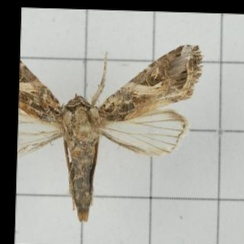Spodoptera litura: (18, 42, 201, 223)
